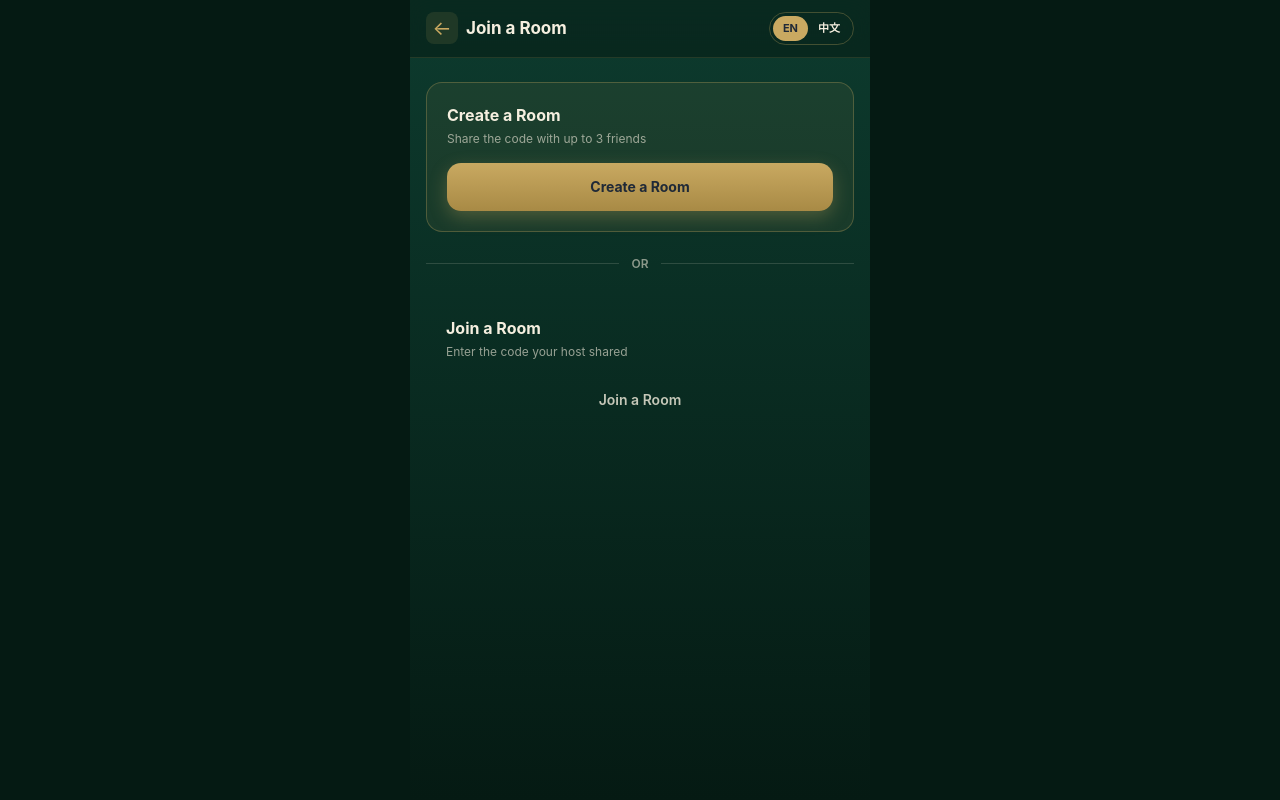
Test: LobbyPage › shows error message on API failure
Click the button "Create a Room" at point(640, 186), box [447,162,833,210]
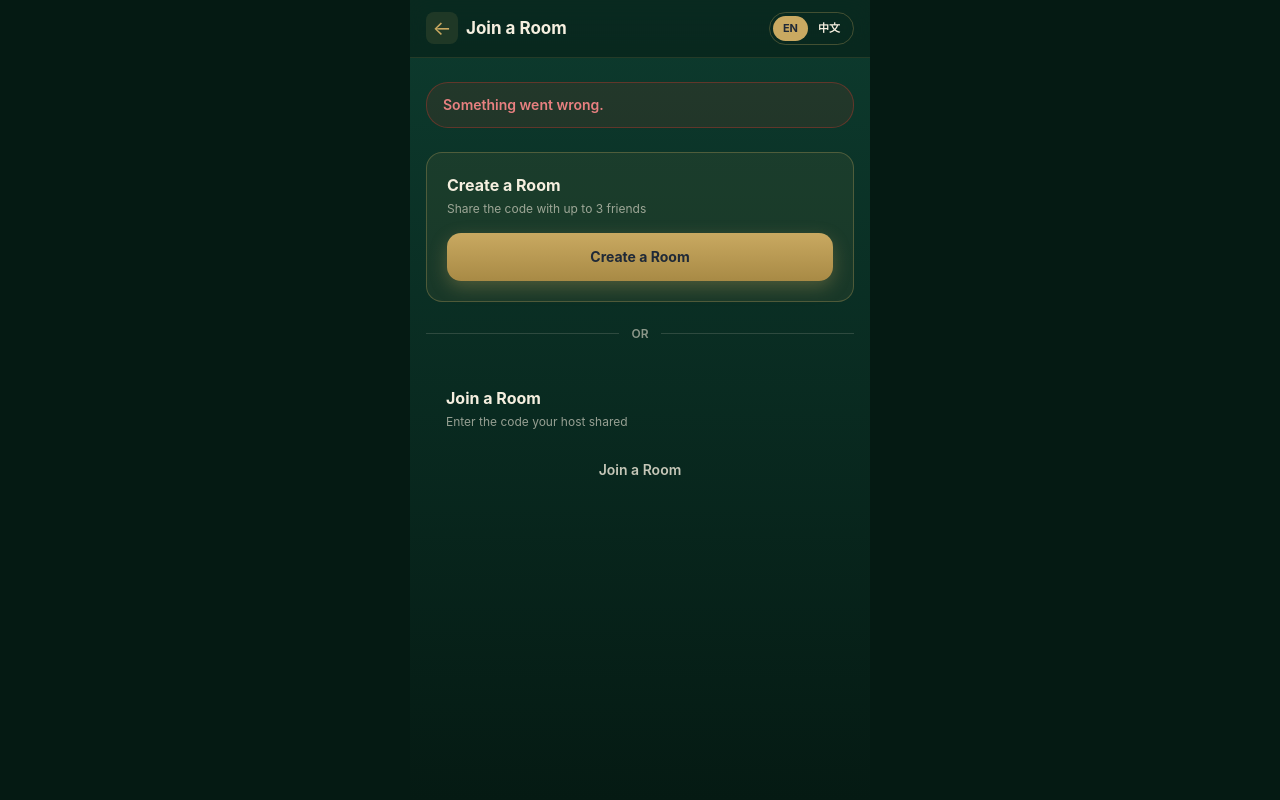
expect the text "Something went wrong." is shown: met, box [426,82,854,128]
